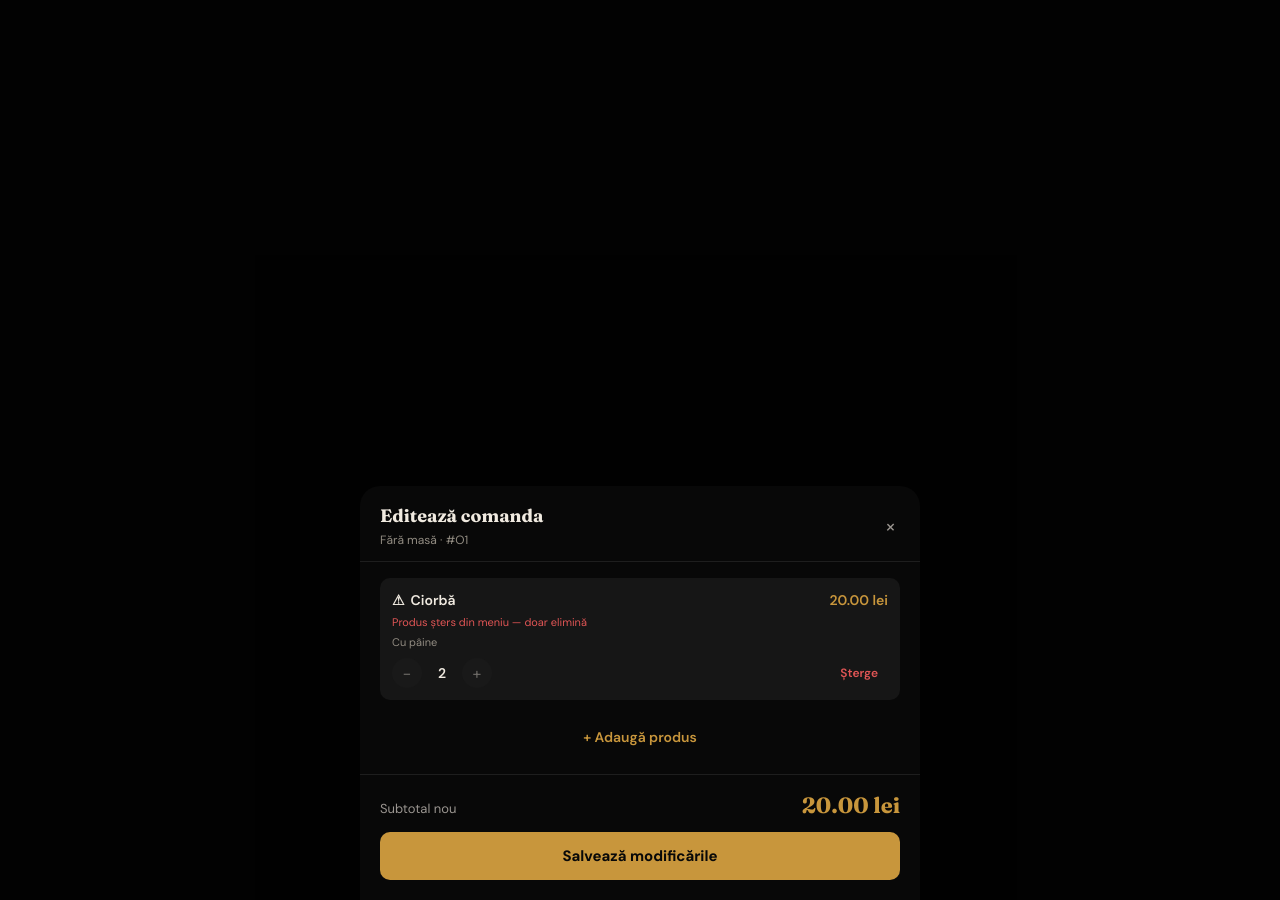
Test: EditOrderSheet — editarea comenzii (bani + optimistic lock) › produs orfan (șters din meniu) blochează salvarea cu mesaj explicit
Click the button "Salvează modificările": (640, 856) [380,832,900,880]
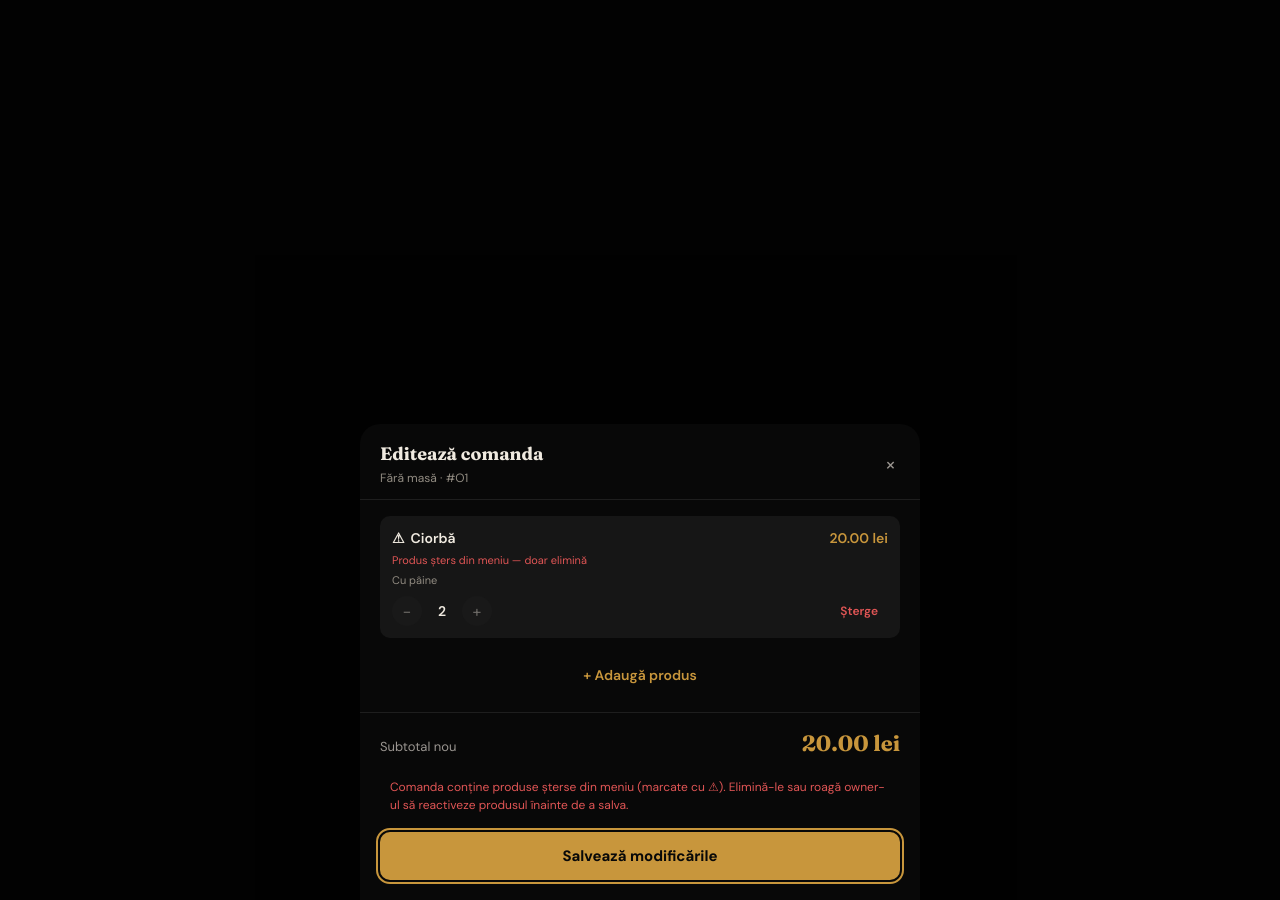
Result: the text "produse șterse din meniu" is shown at [390,779,885,813]
